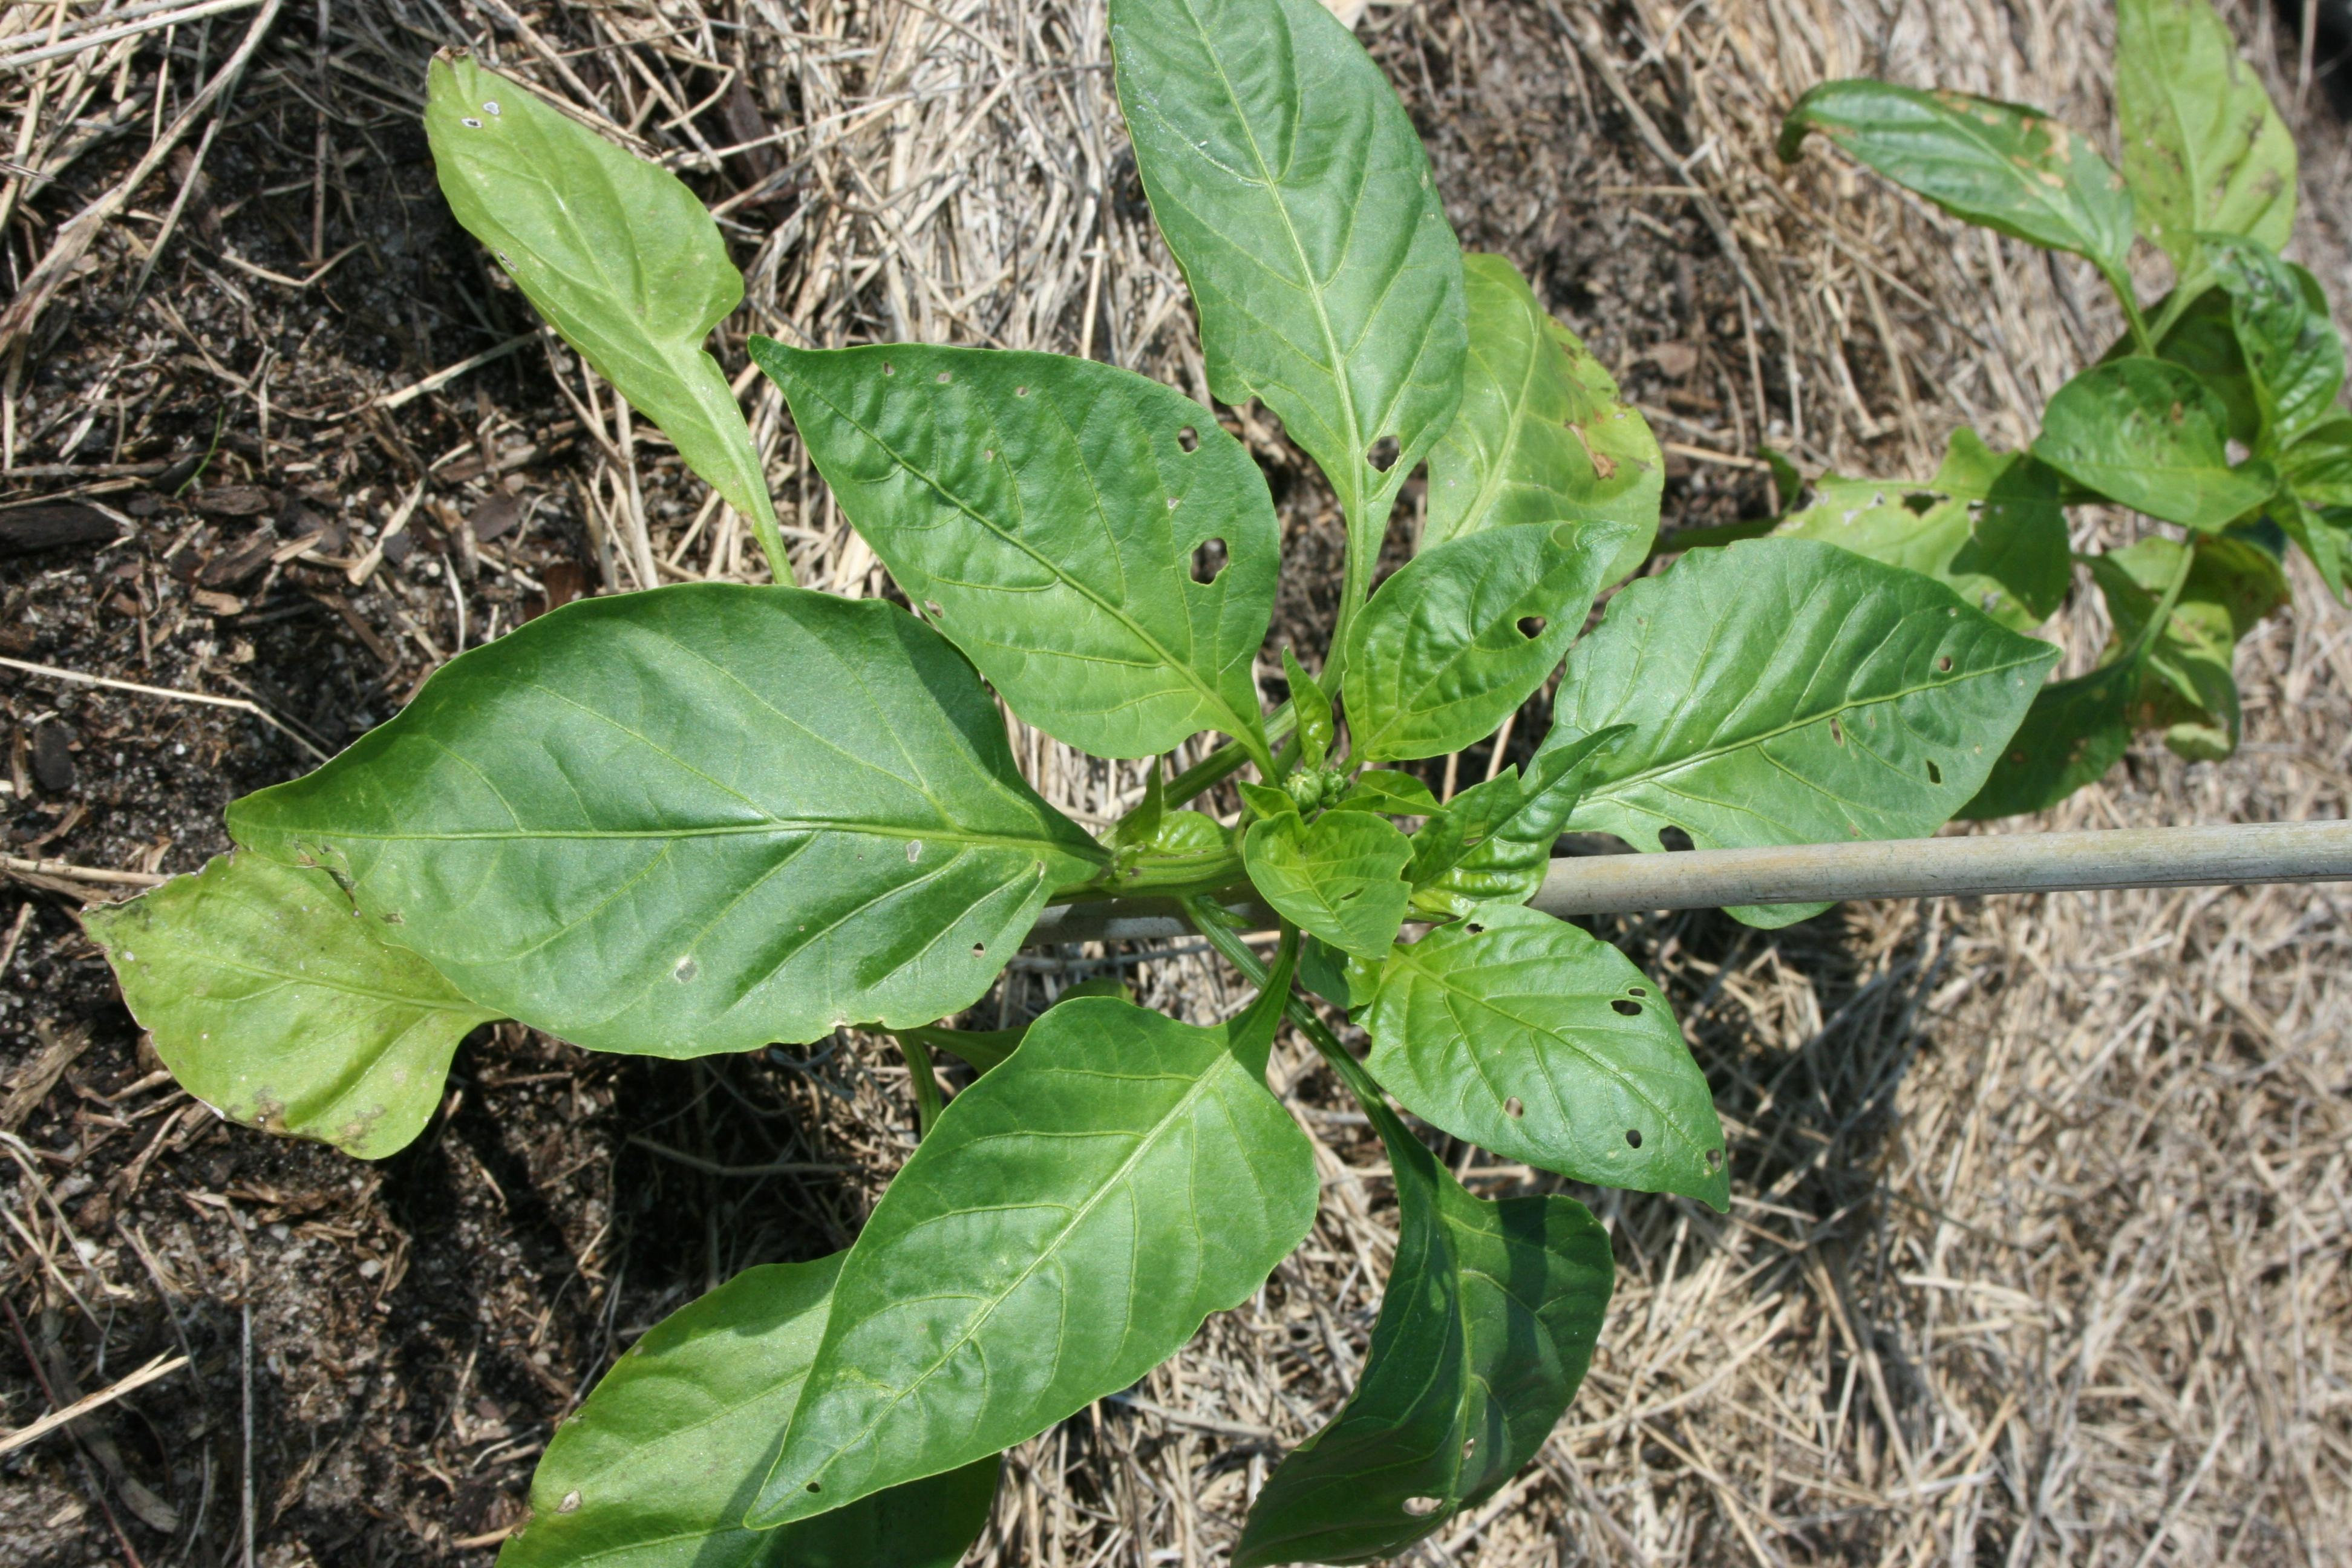Tomato leaf: (271, 593, 1060, 1036), (749, 968, 1318, 1552), (730, 241, 1300, 758), (1092, 3, 1470, 579), (427, 26, 815, 567), (1521, 509, 2065, 873), (1351, 919, 1787, 1204)
